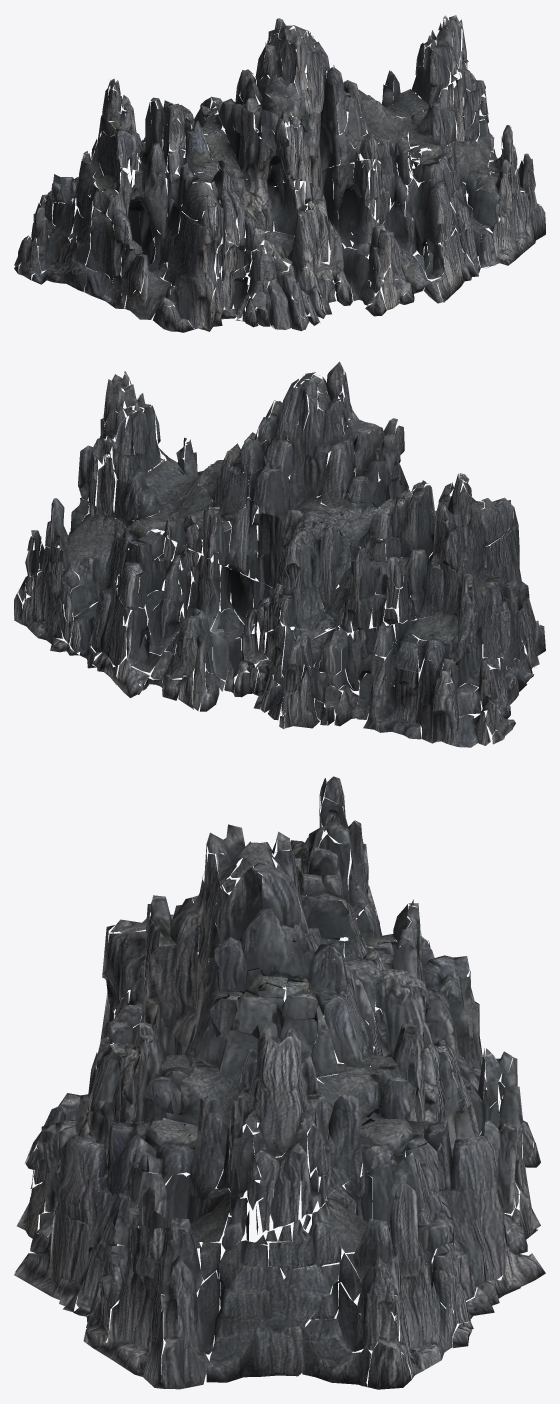
The model's file is karst-mountain.glb.
The picture shows the model from 3 angles, top to bottom: view 1: azimuth 30°, elevation 25°; view 2: azimuth 150°, elevation 25°; view 3: azimuth 270°, elevation 25°; orthographic projection. The views are drawn at different scales.
Visible parts, largest first — view 1: tripo_node_2008c6d8-9920-42f7-aab8-64e1e0bf89de; view 2: tripo_node_2008c6d8-9920-42f7-aab8-64e1e0bf89de; view 3: tripo_node_2008c6d8-9920-42f7-aab8-64e1e0bf89de.
Part boxes in pixels (x1,y1,x2,y2): tripo_node_2008c6d8-9920-42f7-aab8-64e1e0bf89de: (14, 15, 545, 332); tripo_node_2008c6d8-9920-42f7-aab8-64e1e0bf89de: (14, 361, 545, 747); tripo_node_2008c6d8-9920-42f7-aab8-64e1e0bf89de: (14, 776, 545, 1389).
Bounding box in the file's own units: 0.9731 × 0.5099 × 0.6392.
1 material, 1 textured.
